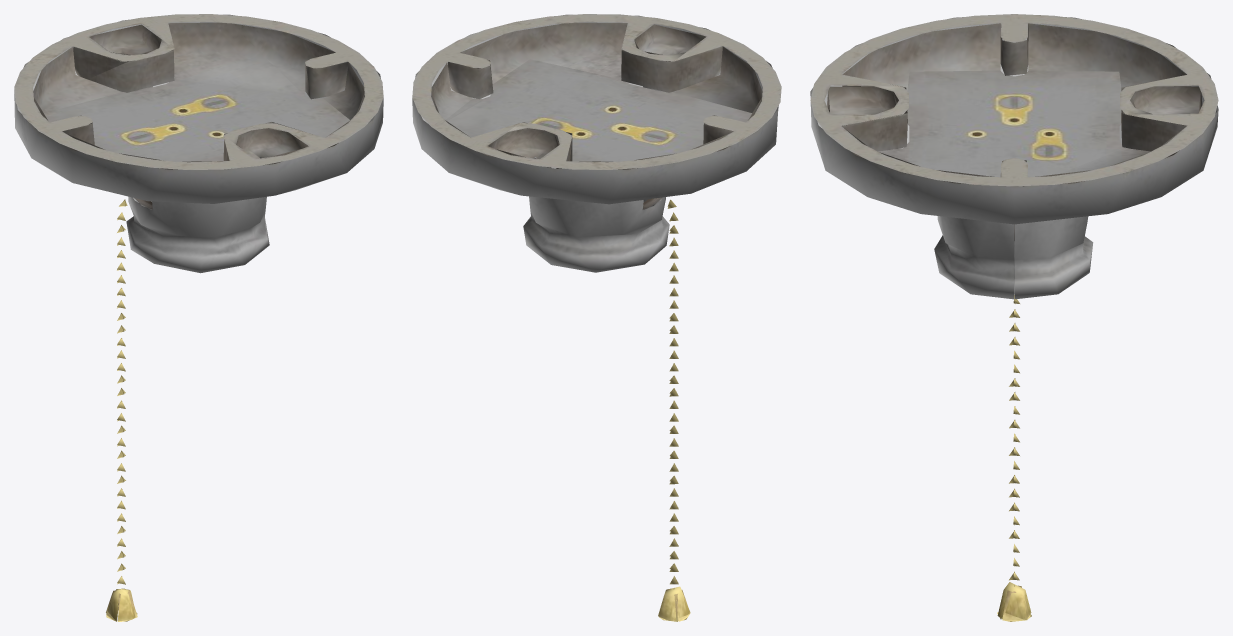
The model's file is pull_chain_light_socket.gltf.
3 views of the same model, side by side, from view 1: azimuth 30°, elevation 25°; view 2: azimuth 150°, elevation 25°; view 3: azimuth 270°, elevation 25° (orthographic). The views are drawn at different scales.
Parts seen in each view (by area): view 1: pull_chain_light_socket; view 2: pull_chain_light_socket; view 3: pull_chain_light_socket.
Part boxes in pixels (x1,y1,x2,y2): pull_chain_light_socket: (14, 14, 383, 621); pull_chain_light_socket: (412, 14, 781, 621); pull_chain_light_socket: (810, 14, 1218, 621).
Bounding box in the file's own units: 0.1102 × 0.1657 × 0.1101.
Materials: 1 (1 with a texture image).
